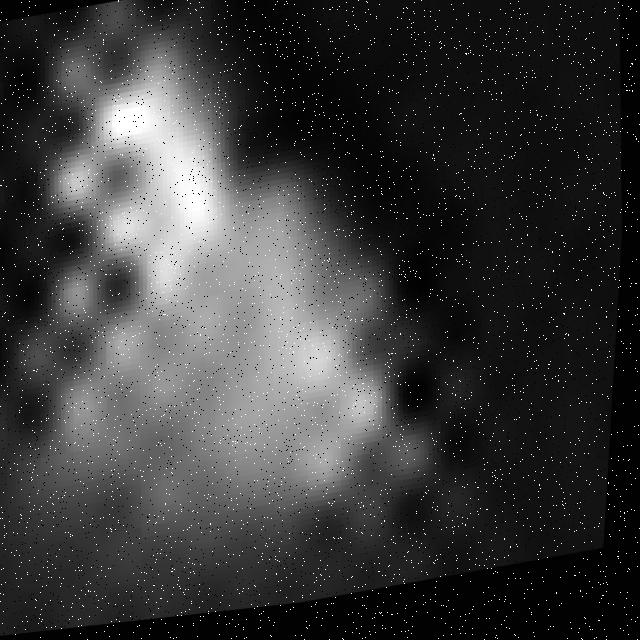person: (1, 1, 473, 631)
